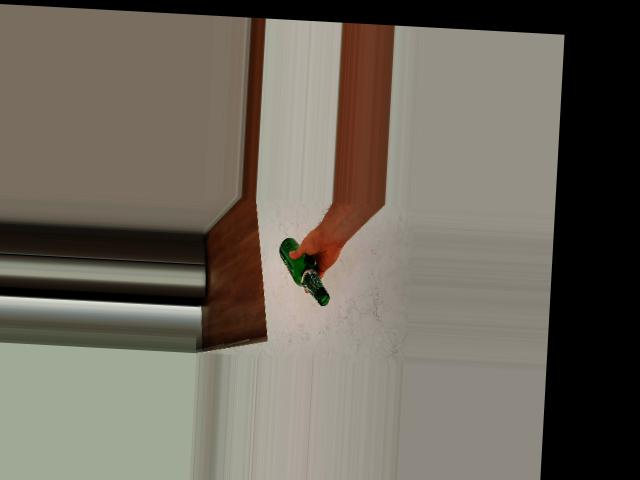beer: (277, 237, 334, 306)
